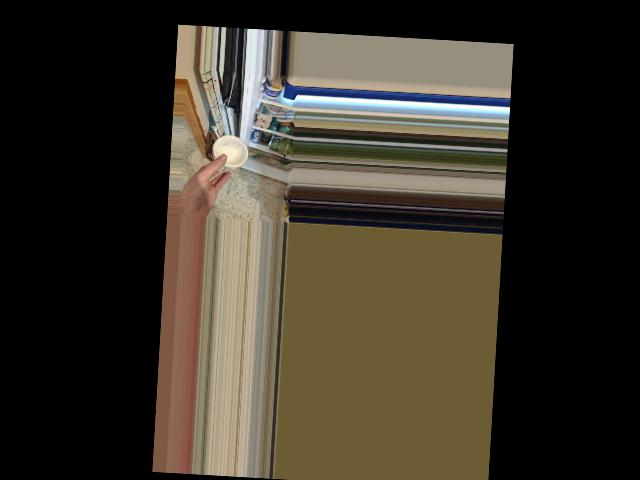cotage: (209, 129, 247, 176)
